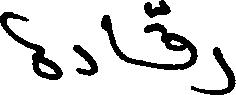X: (0, 7, 61, 84), (162, 0, 196, 94), (198, 42, 235, 94), (102, 10, 121, 64), (75, 40, 96, 80)
